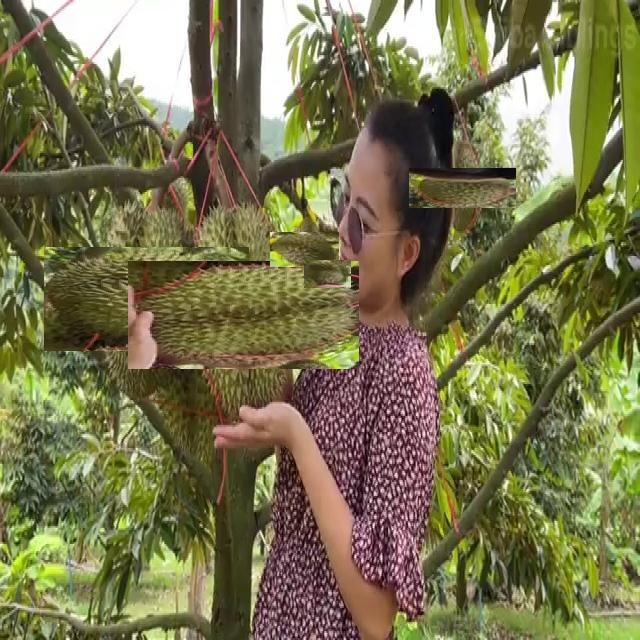durian: (158, 230, 328, 400), (68, 222, 224, 376), (425, 152, 499, 226), (278, 223, 331, 276), (308, 255, 346, 293)
